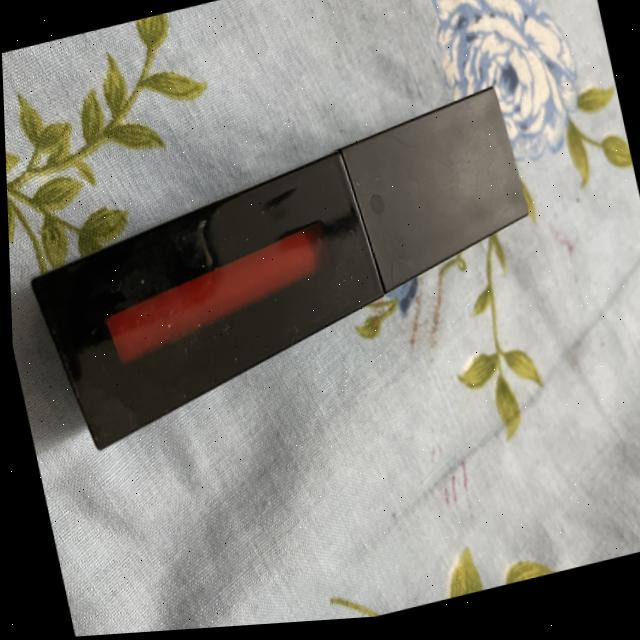lip gloss: (2, 42, 584, 504)
